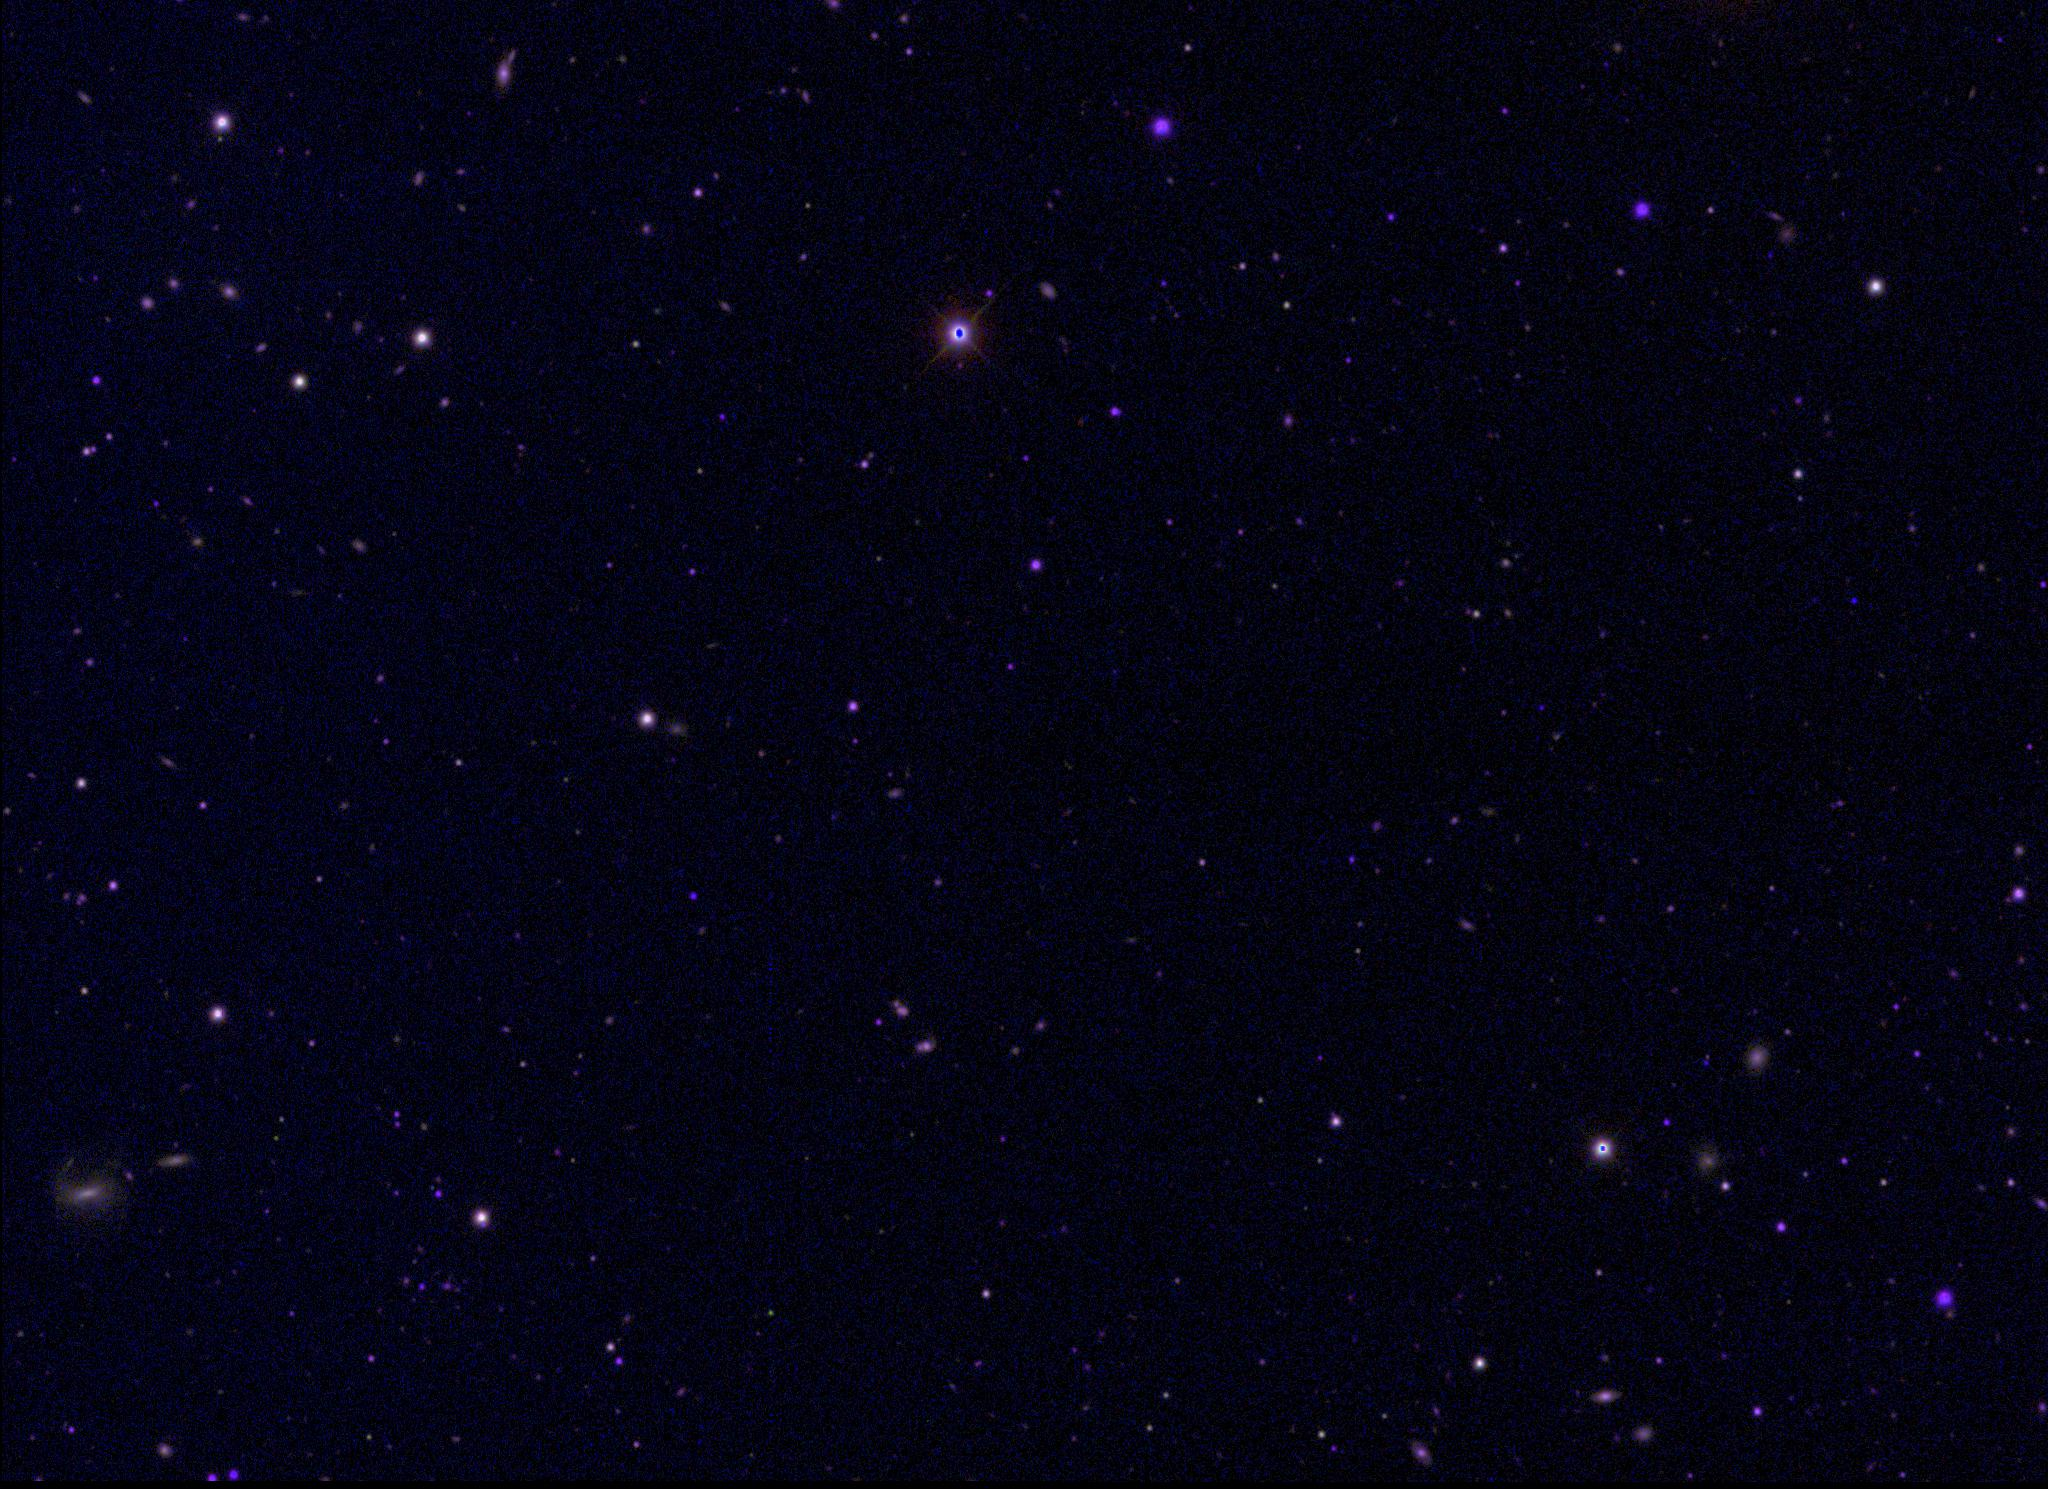L: (1848, 593, 1860, 608)
